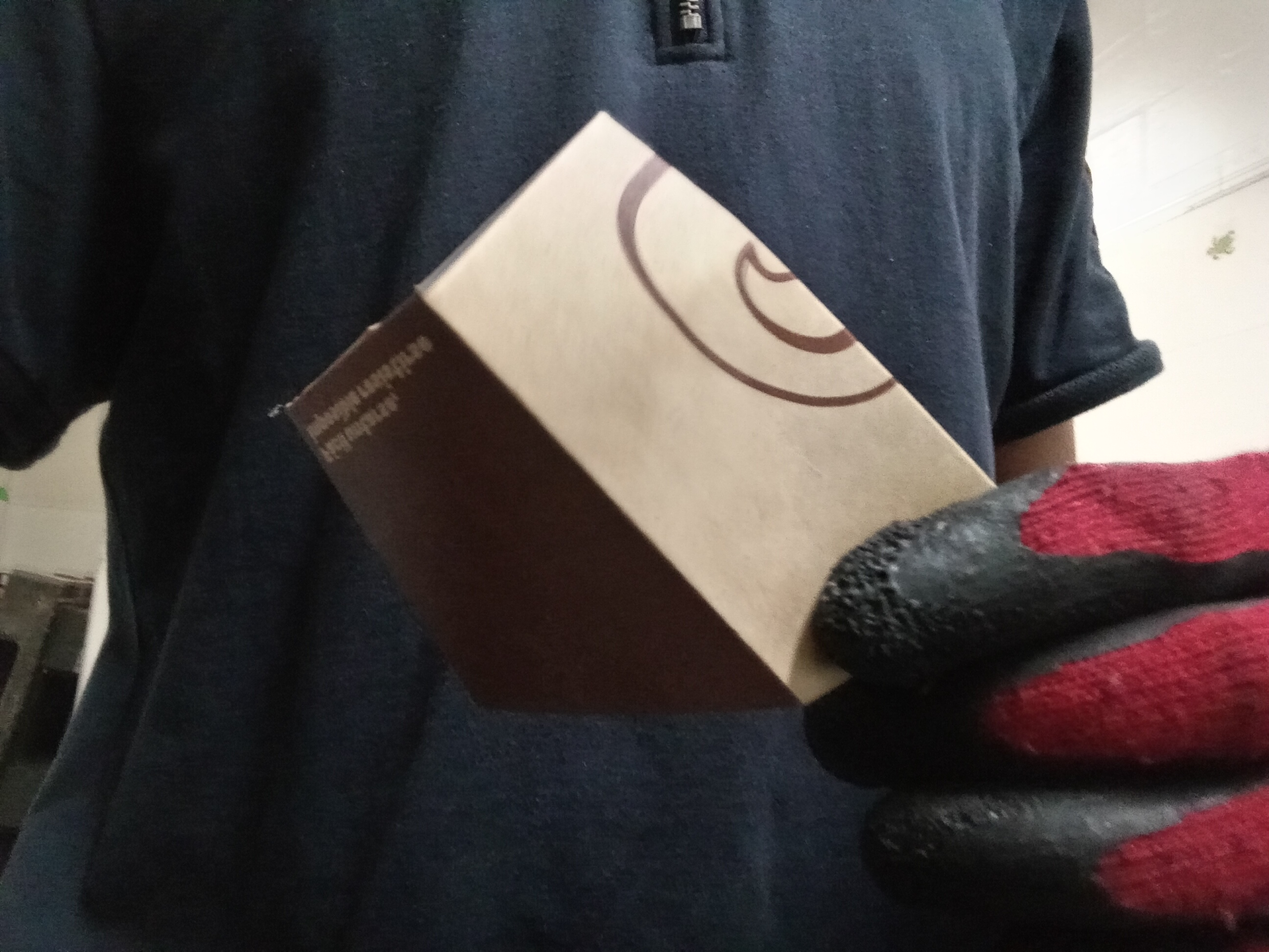Carton: (283, 108, 1029, 709)
